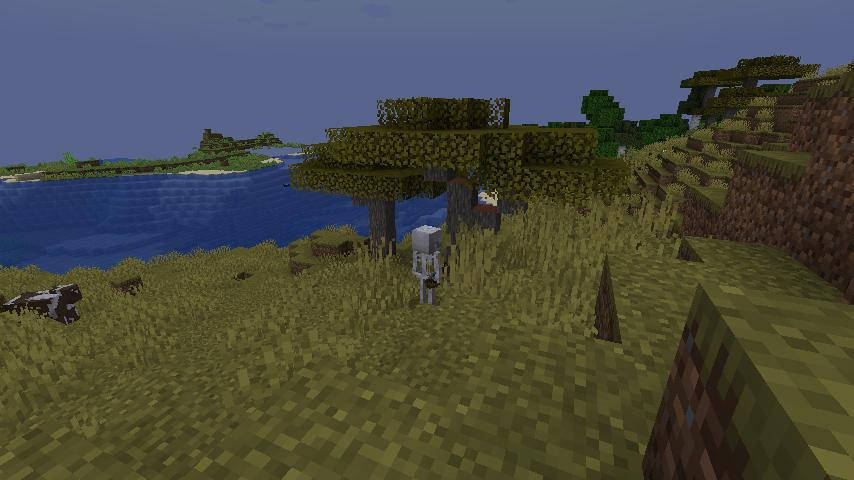cow: (5, 279, 84, 325)
skeleton: (408, 222, 448, 307)
